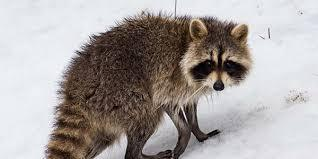raccoon: (35, 4, 262, 159)
